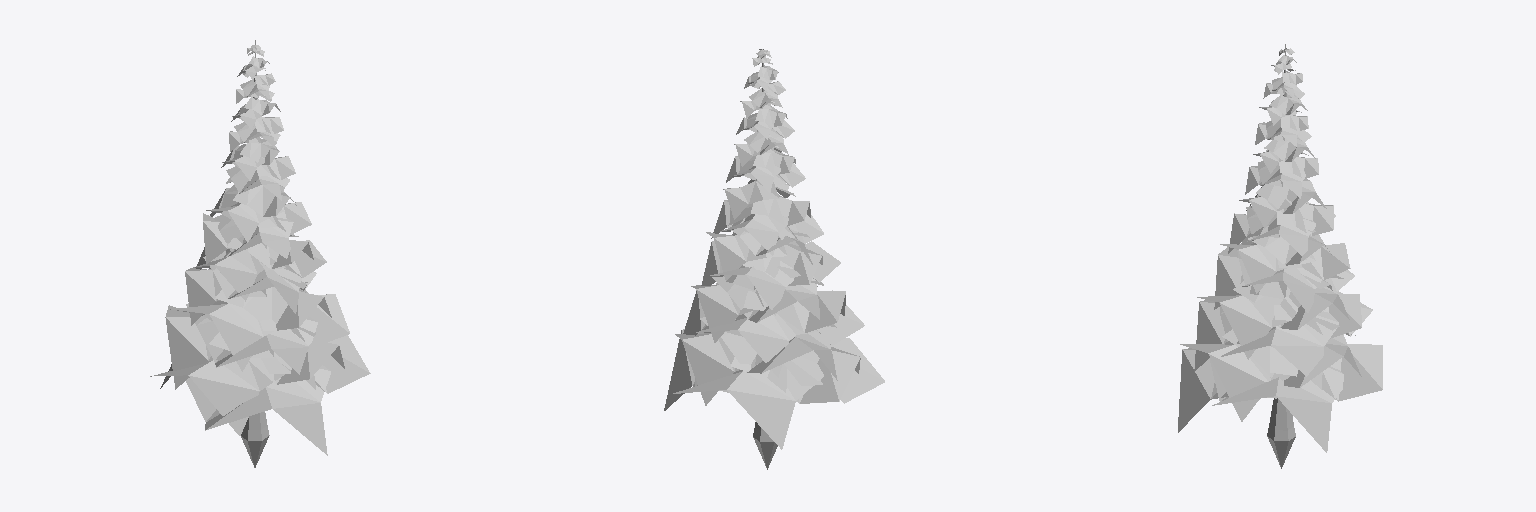
File: Spruce_Tree2.obj
3 views of the same model, side by side, from view 1: azimuth 30°, elevation 25°; view 2: azimuth 150°, elevation 25°; view 3: azimuth 270°, elevation 25° (orthographic).
Visible parts, largest first — view 1: RHE_SpruceA_Trunk1; view 2: RHE_SpruceA_Trunk1; view 3: RHE_SpruceA_Trunk1.
Part boxes in pixels (x1,y1,x2,y2): RHE_SpruceA_Trunk1: (150,40,370,467); RHE_SpruceA_Trunk1: (664,49,884,469); RHE_SpruceA_Trunk1: (1178,44,1382,468).
Bounding box in the file's own units: 7.85 × 18.06 × 7.91.